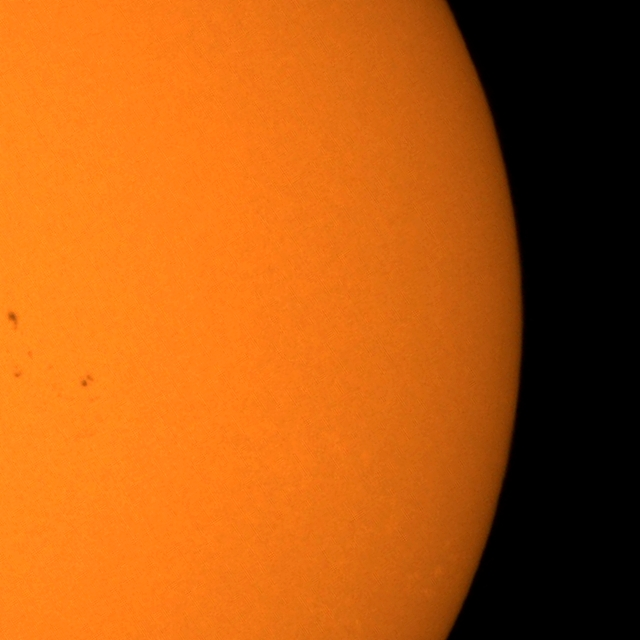sunspot: (6, 309, 19, 328), (79, 374, 95, 388), (13, 370, 22, 379)
